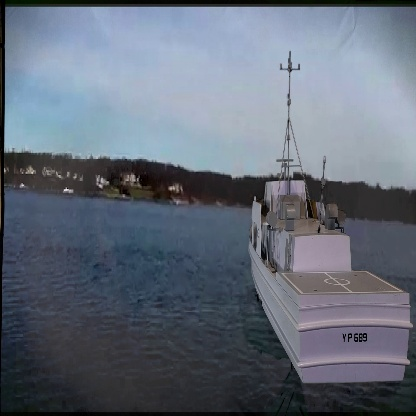YP689: (247, 51, 413, 385)
